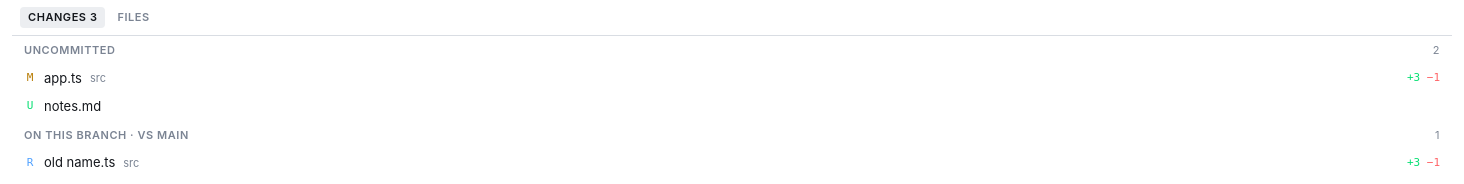
Test: ChangesPanel › hides ignored files until asked, then shows them dimmed — contents included — and remembers
This screenshot has width=1464, height=184.
Click the tab "Files" at (134, 18), box [110,7,158,28]
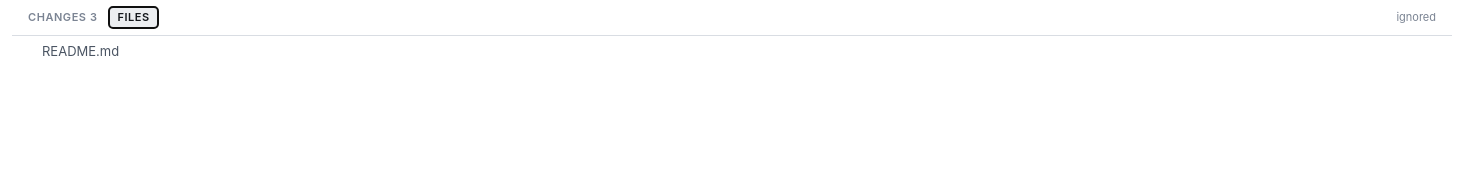
Expected: the list item "node_modules" is not shown
Now the list item "README.md" is shown, box [12,40,1452,64]
Click the button "ignored" at (1416, 18), box [1388,7,1444,28]
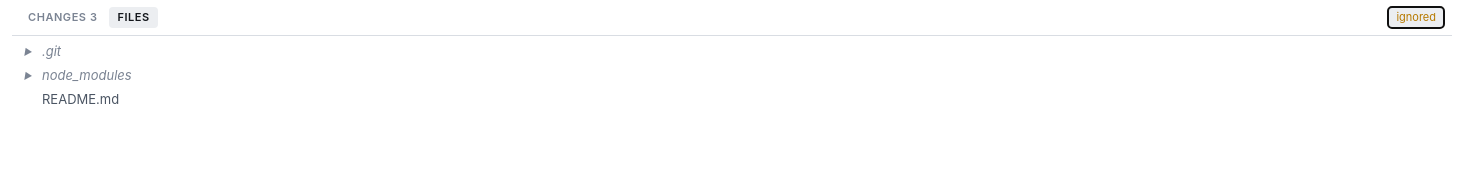
Now the list item ".git" is shown, box [12,40,1452,64]
What is inside an ignored folder is ignored too, even though the rules only name the folder.
Click the button "▶ node_modules" at (87, 75), box [12,64,1452,88]
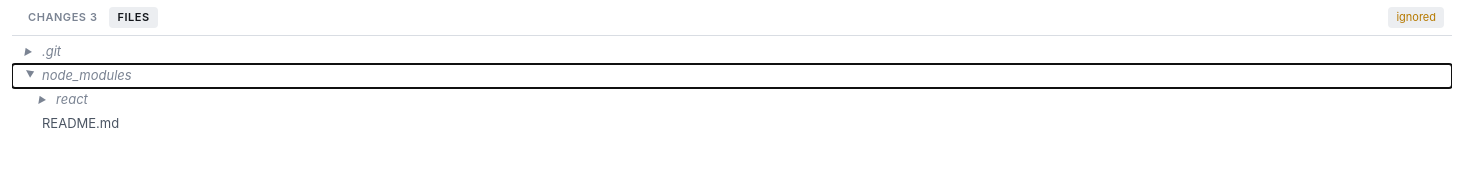
Click the button "ignored" at (1416, 18), box [1388,7,1444,28]
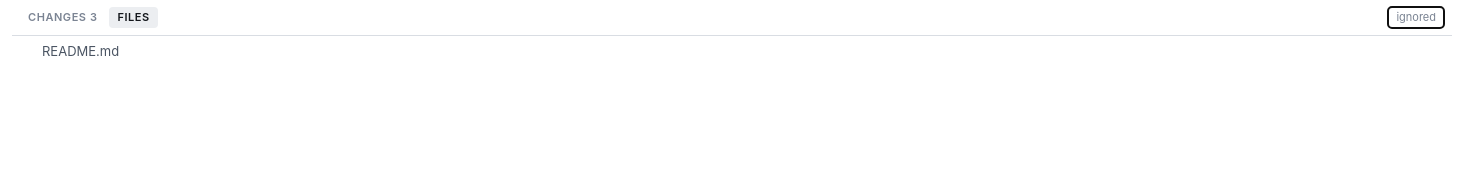
Now the button "node_modules" is gone
